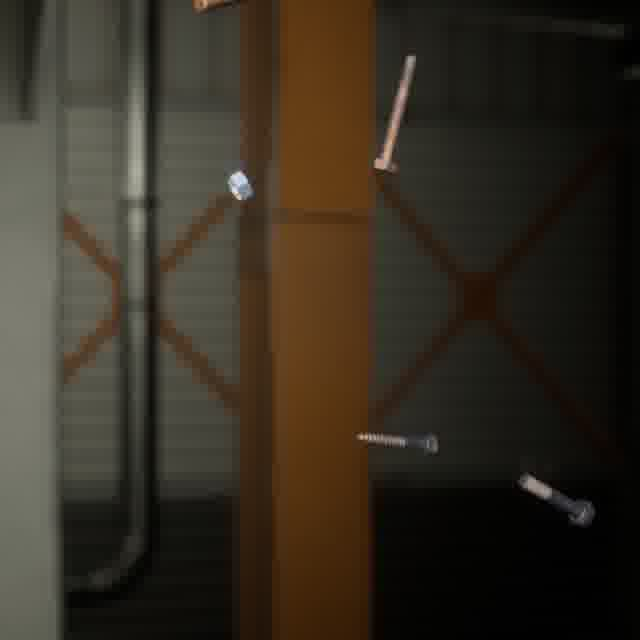bolt: (365, 50, 421, 179), (513, 469, 599, 531), (351, 428, 442, 461)
nut: (222, 166, 257, 205)
